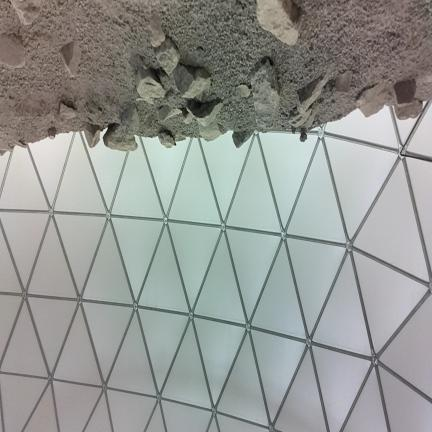Rock: (252, 57, 279, 129), (257, 0, 301, 44), (104, 104, 139, 151), (297, 71, 329, 113), (173, 64, 210, 99), (357, 83, 395, 117), (394, 80, 422, 119), (137, 67, 165, 104), (187, 99, 222, 126), (155, 38, 180, 74), (104, 124, 137, 151), (0, 33, 25, 67), (11, 0, 43, 24), (60, 41, 81, 77), (121, 104, 139, 137), (394, 80, 416, 104), (395, 100, 422, 119), (149, 16, 165, 47), (199, 121, 222, 141), (289, 108, 312, 127), (415, 74, 431, 100), (335, 70, 353, 93), (84, 123, 100, 147), (233, 129, 253, 148), (159, 105, 181, 121), (59, 103, 76, 120), (158, 131, 175, 148), (304, 108, 317, 129), (236, 84, 252, 98), (182, 108, 193, 124), (47, 126, 56, 139), (175, 133, 186, 142), (300, 129, 307, 142), (0, 149, 9, 156)
